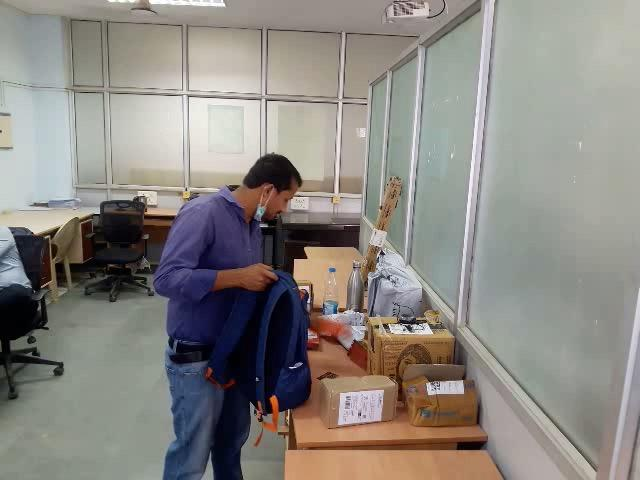shoplifting: (141, 238, 368, 403)
